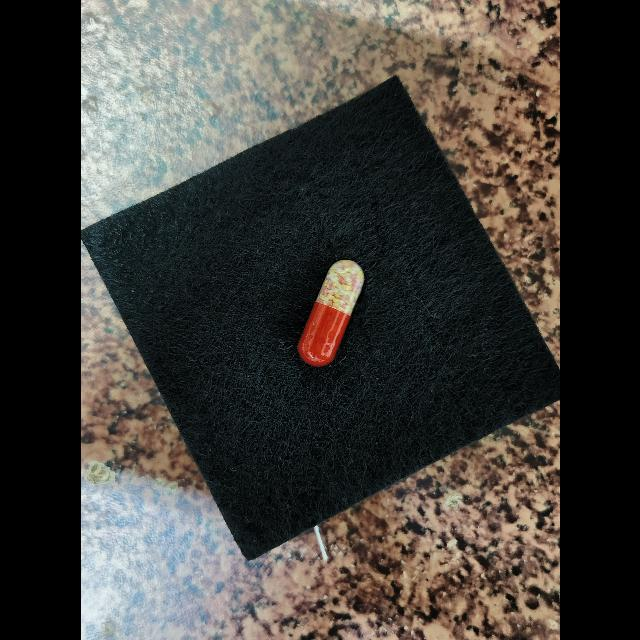Intact Capsule: (297, 260, 363, 366)
